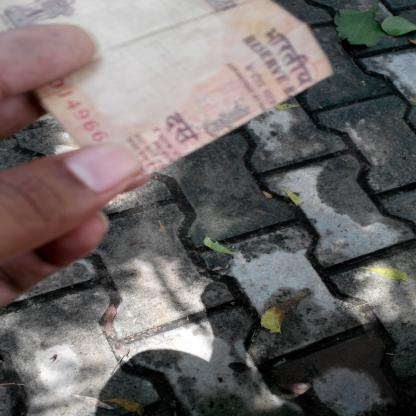Old10Front: (0, 0, 333, 185)
